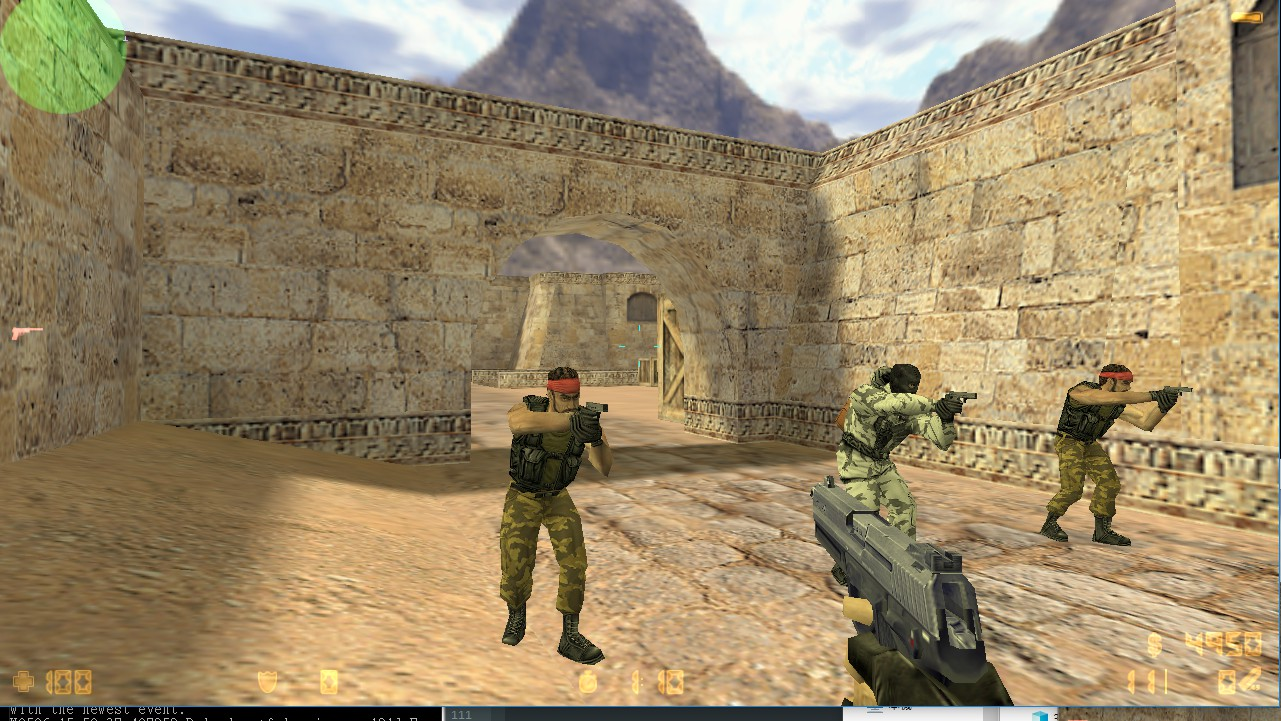person: (495, 365, 621, 661), (1047, 355, 1147, 550), (838, 345, 961, 500)
